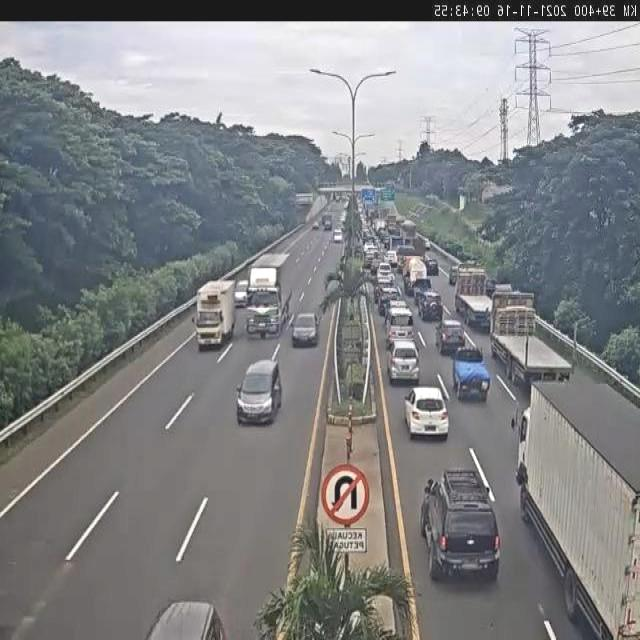Car: (419, 469, 500, 582), (142, 599, 228, 638), (235, 357, 282, 425), (404, 385, 449, 440), (387, 339, 421, 386), (384, 304, 414, 343), (435, 318, 465, 355), (291, 312, 319, 348), (415, 285, 442, 320), (378, 286, 400, 317), (487, 283, 512, 305), (376, 272, 394, 294), (377, 262, 392, 281), (424, 256, 438, 276), (384, 250, 398, 270), (369, 256, 381, 274), (362, 228, 374, 245), (449, 265, 459, 285), (378, 228, 387, 245), (333, 229, 343, 242), (340, 210, 347, 227), (424, 238, 432, 250), (312, 221, 320, 230)
Truck: (517, 370, 640, 635), (492, 291, 569, 389), (244, 257, 288, 339), (195, 278, 238, 350), (489, 288, 534, 342), (454, 264, 492, 326), (453, 346, 492, 403), (401, 256, 428, 296), (322, 214, 332, 230)
